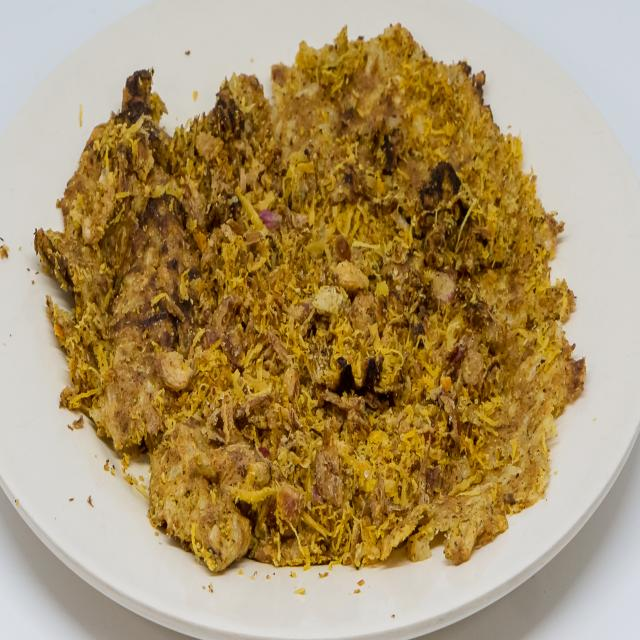Kerak-Telor: (26, 11, 592, 594)
